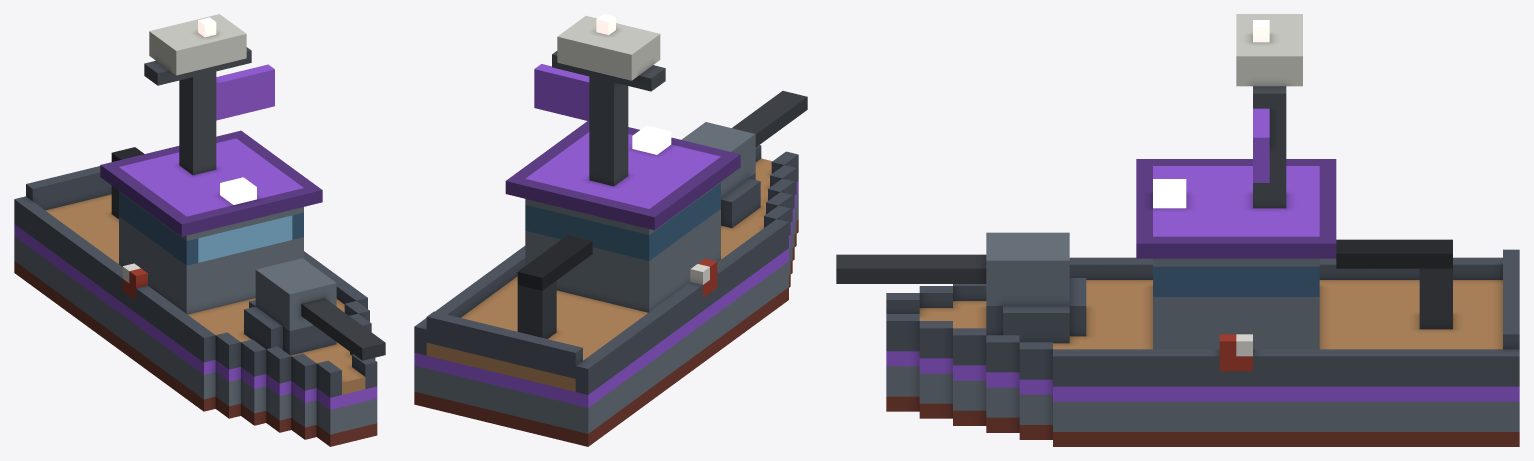
Rendered from cm_gunboat_4.glb.
3 views of the same model, side by side, from view 1: azimuth 30°, elevation 25°; view 2: azimuth 150°, elevation 25°; view 3: azimuth 270°, elevation 25° (orthographic). The views are drawn at different scales.
Visible parts, largest first — view 1: cm_gunboat_4_body; view 2: cm_gunboat_4_body; view 3: cm_gunboat_4_body.
Boxes of the visible parts, bbox=[...] form: cm_gunboat_4_body: bbox=[14, 14, 385, 446]; cm_gunboat_4_body: bbox=[414, 14, 807, 446]; cm_gunboat_4_body: bbox=[836, 14, 1519, 446].
Bounding box in the file's own units: 0.875 × 1.56 × 2.56.
Materials: 1 (1 with a texture image).
